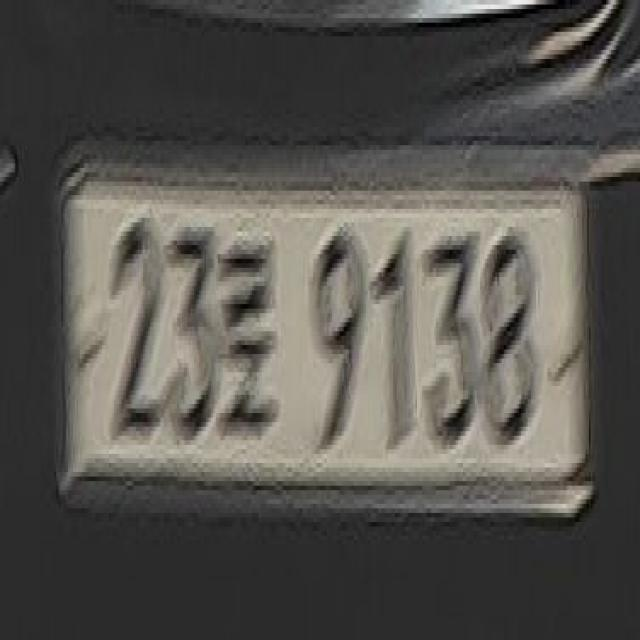1: (372, 206, 418, 464)
2: (100, 206, 164, 448)
3: (421, 203, 479, 465), (167, 207, 217, 450)
8: (481, 205, 546, 472)
9: (307, 205, 368, 465)
license_plate: (66, 179, 590, 503)
lo: (218, 212, 286, 456)
